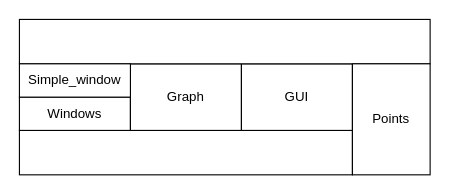
Some shapes in this 450 by 194 pixel diagram are drawn without their labels. The centre of each missing label's shape, as x and y in pixels:
"FLTK" goes at (x=185, y=152).
"Program" goes at (x=224, y=41).
